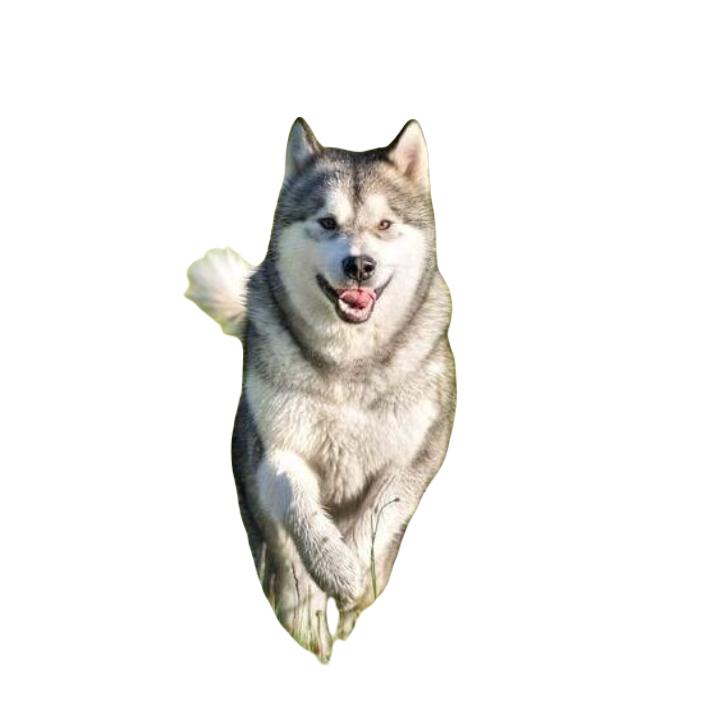Dog: (174, 114, 460, 659)
